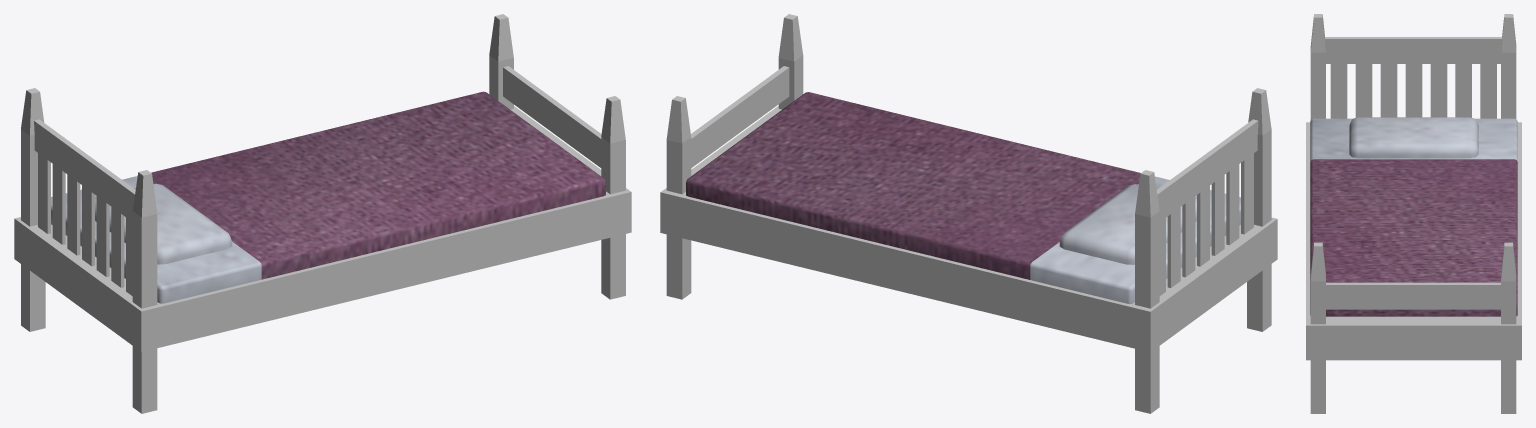
File: MS_Bed_2.fbx
3 renders of one model, left to right at view 1: azimuth 30°, elevation 25°; view 2: azimuth 150°, elevation 25°; view 3: azimuth 270°, elevation 25°, orthographic. The views are drawn at different scales.
Parts seen in each view (by area): view 1: MSH_Bed; view 2: MSH_Bed; view 3: MSH_Bed.
Boxes of the visible parts, x1,y1,x2,y2 form: MSH_Bed: [14, 14, 631, 413]; MSH_Bed: [660, 14, 1277, 413]; MSH_Bed: [1306, 14, 1521, 413].
Bounding box in the file's own units: 200 × 91.8 × 89.58.
